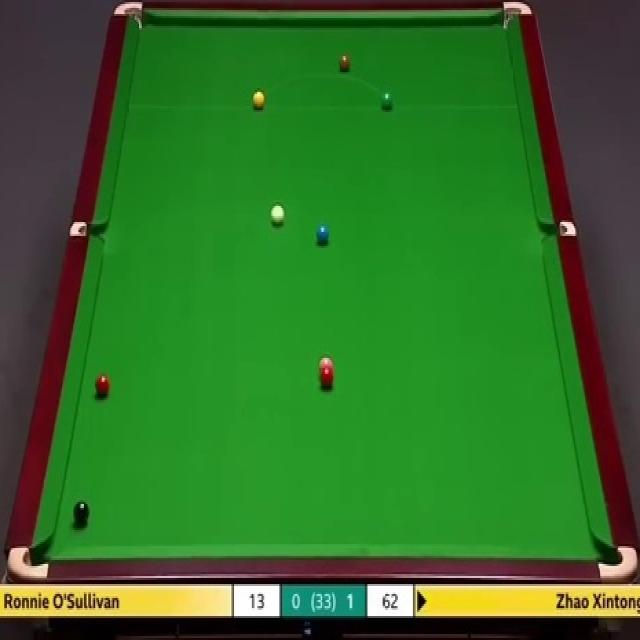black-ball: (70, 504, 87, 530)
blue-ball: (315, 222, 330, 245)
brown-ball: (338, 54, 351, 74)
green-ball: (380, 89, 393, 110)
pink-ball: (318, 355, 334, 370)
red-ball: (94, 372, 110, 398), (319, 367, 335, 388)
white-ball: (270, 202, 286, 228)
yellow-ball: (253, 90, 265, 110)
